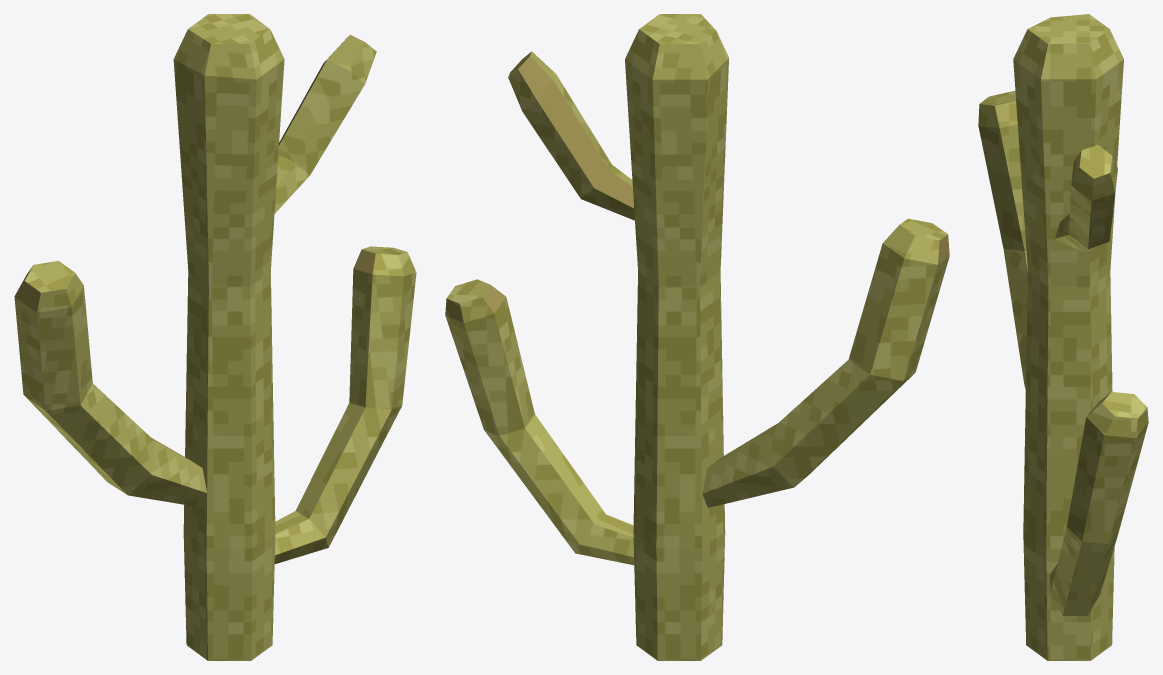
Rendered from CaptusEgiptoModeloB.fbx.
The picture shows the model from 3 angles, left to right: view 1: azimuth 30°, elevation 25°; view 2: azimuth 150°, elevation 25°; view 3: azimuth 270°, elevation 25°; orthographic projection.
Visible parts, largest first — view 1: Circle.003; view 2: Circle.003; view 3: Circle.003.
Part boxes in pixels (x1,y1,x2,y2): Circle.003: (14,14,416,660); Circle.003: (445,14,949,660); Circle.003: (978,14,1148,660).
Size of the model in its own units: 11.85 by 15.81 by 3.96.
